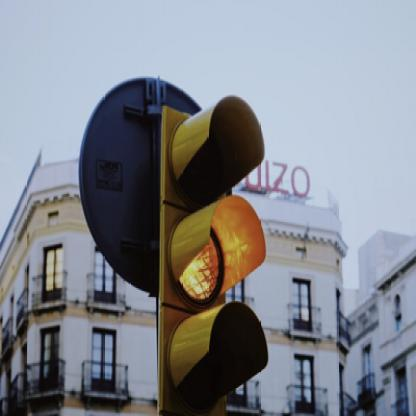trafficlight: (159, 91, 267, 412)
